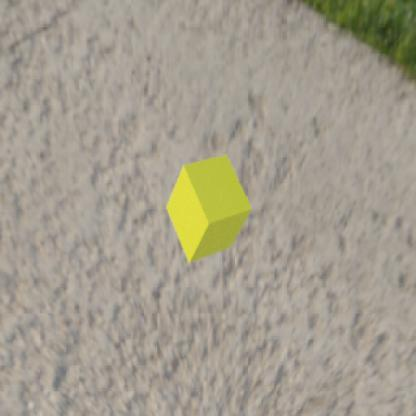cube: (165, 152, 252, 262)
